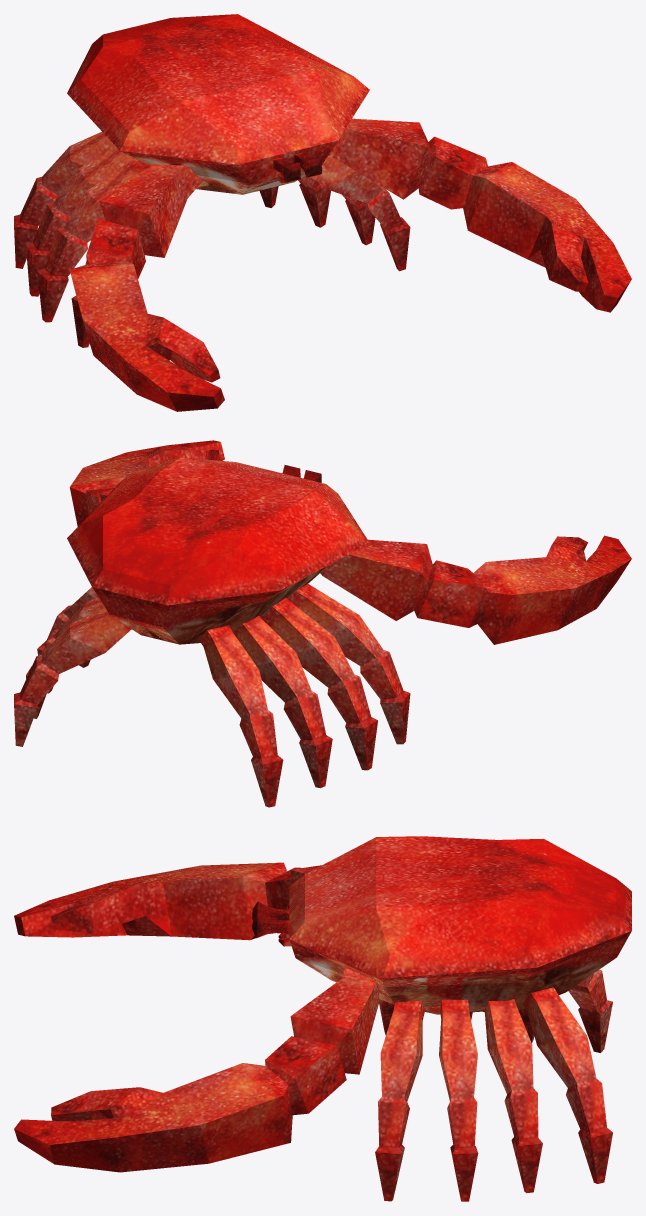
The model's file is herma.obj.
3 views of the same model, one above another, from view 1: azimuth 30°, elevation 25°; view 2: azimuth 150°, elevation 25°; view 3: azimuth 270°, elevation 25° (orthographic). The views are drawn at different scales.
Parts seen in each view (by area): view 1: Head, ArmLeft, ArmRight, LegRightMiddleFront, LegRightBack, LegRightMiddleBack, LegLeftFront, LegLeftMiddleBack, LegLeftMiddleFront; view 2: Head, ArmRight, LegRightMiddleFront, LegRightBack, LegRightMiddleBack, LegRightFront, LegLeftBack, ArmLeft, LegLeftMiddleBack, LegLeftMiddleFront; view 3: Head, ArmLeft, ArmRight, LegLeftBack, LegLeftMiddleBack, LegLeftFront, LegLeftMiddleFront, LegRightBack.
Part boxes in pixels (bbox=[...]): Head: bbox=[67, 14, 369, 194]; ArmLeft: bbox=[328, 118, 631, 312]; ArmRight: bbox=[70, 164, 224, 411]; LegRightMiddleFront: bbox=[37, 158, 149, 322]; LegRightBack: bbox=[14, 132, 116, 268]; LegRightMiddleBack: bbox=[26, 147, 135, 296]; LegLeftFront: bbox=[310, 156, 410, 271]; LegLeftMiddleBack: bbox=[298, 176, 330, 227]; LegLeftMiddleFront: bbox=[342, 194, 375, 245]; Head: bbox=[67, 457, 369, 644]; ArmRight: bbox=[320, 535, 631, 644]; LegRightMiddleFront: bbox=[260, 598, 377, 770]; LegRightBack: bbox=[199, 625, 283, 807]; LegRightMiddleBack: bbox=[233, 616, 332, 788]; LegRightFront: bbox=[287, 584, 410, 744]; LegLeftBack: bbox=[14, 608, 131, 746]; ArmLeft: bbox=[69, 440, 224, 526]; LegLeftMiddleBack: bbox=[26, 597, 105, 718]; LegLeftMiddleFront: bbox=[37, 587, 98, 693]; Head: bbox=[252, 836, 631, 1014]; ArmLeft: bbox=[14, 967, 379, 1172]; ArmRight: bbox=[14, 862, 321, 940]; LegLeftBack: bbox=[523, 987, 612, 1183]; LegLeftMiddleBack: bbox=[484, 999, 542, 1193]; LegLeftFront: bbox=[375, 1000, 425, 1201]; LegLeftMiddleFront: bbox=[439, 999, 478, 1201]; LegRightBack: bbox=[568, 969, 612, 1052].
Size of the model in its own units: 2.24 by 0.9914 by 2.25.
